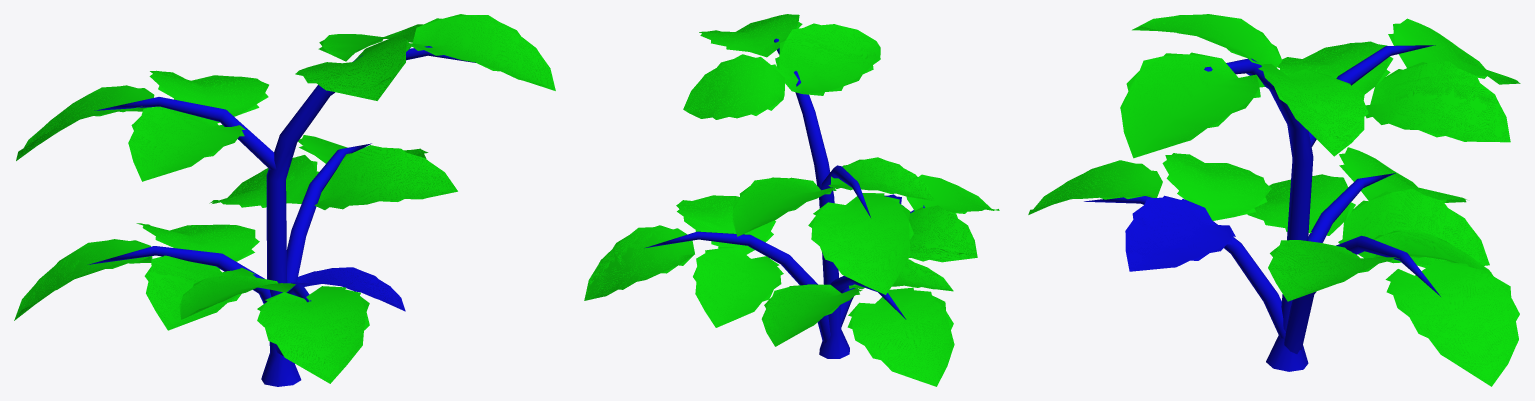
Rendered from Strawberry_Empty.fbx.
3 views of the same model, side by side, from view 1: azimuth 30°, elevation 25°; view 2: azimuth 150°, elevation 25°; view 3: azimuth 270°, elevation 25° (orthographic). The views are drawn at different scales.
Parts seen in each view (by area): view 1: BSTC_StrawBerry_Empty; view 2: BSTC_StrawBerry_Empty; view 3: BSTC_StrawBerry_Empty.
Part boxes in pixels (<box>): BSTC_StrawBerry_Empty: <box>14,14,555,386</box>; BSTC_StrawBerry_Empty: <box>584,14,999,386</box>; BSTC_StrawBerry_Empty: <box>1028,14,1520,386</box>.
Size of the model in its own units: 87.16 by 70.01 by 84.28.
